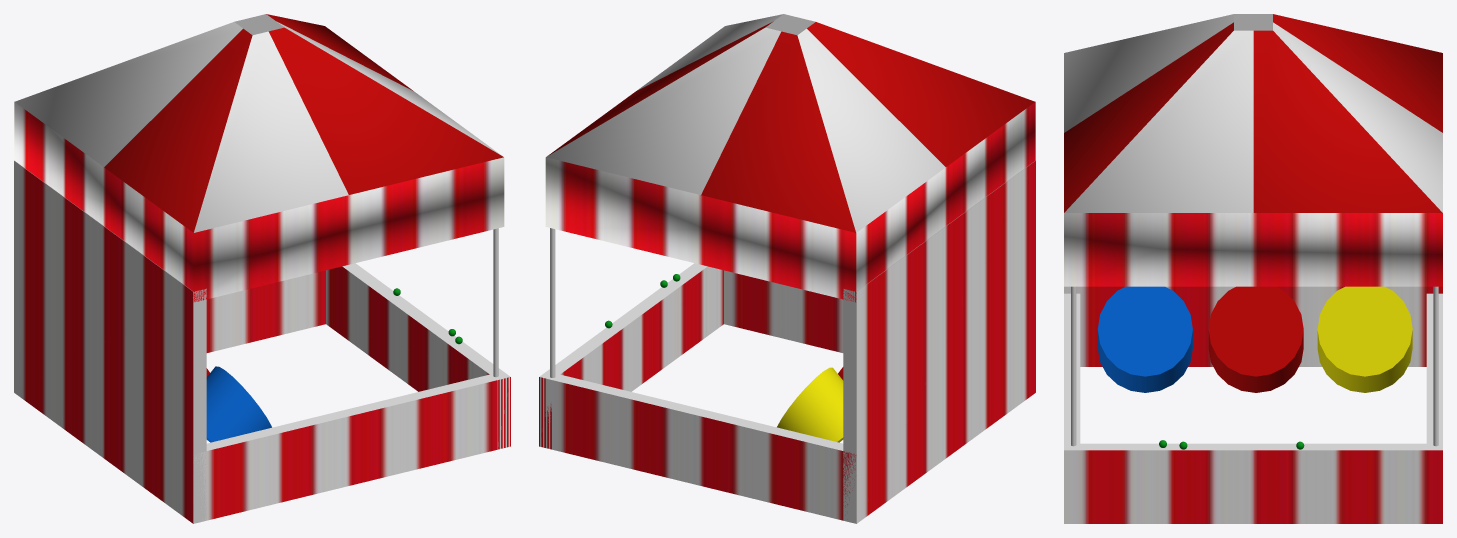
The model's file is red_tent.fbx.
3 renders of one model, left to right at view 1: azimuth 30°, elevation 25°; view 2: azimuth 150°, elevation 25°; view 3: azimuth 270°, elevation 25°, orthographic. The views are drawn at different scales.
Visible parts, largest first — view 1: red_tent; view 2: red_tent; view 3: red_tent.
Part boxes in pixels (bbox=[...]): red_tent: bbox=[14, 14, 510, 523]; red_tent: bbox=[539, 14, 1035, 523]; red_tent: bbox=[1064, 14, 1442, 523].
Bounding box in the file's own units: 7.18 × 8.53 × 7.
